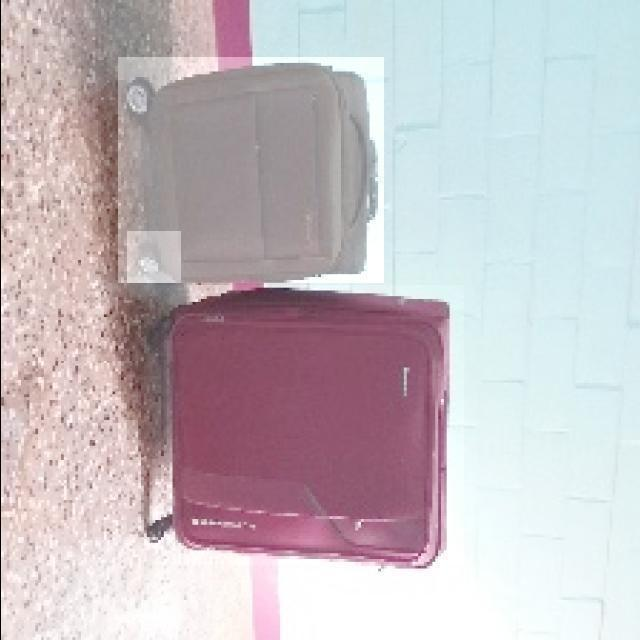Suitcase: (140, 283, 461, 572), (122, 56, 380, 282)
